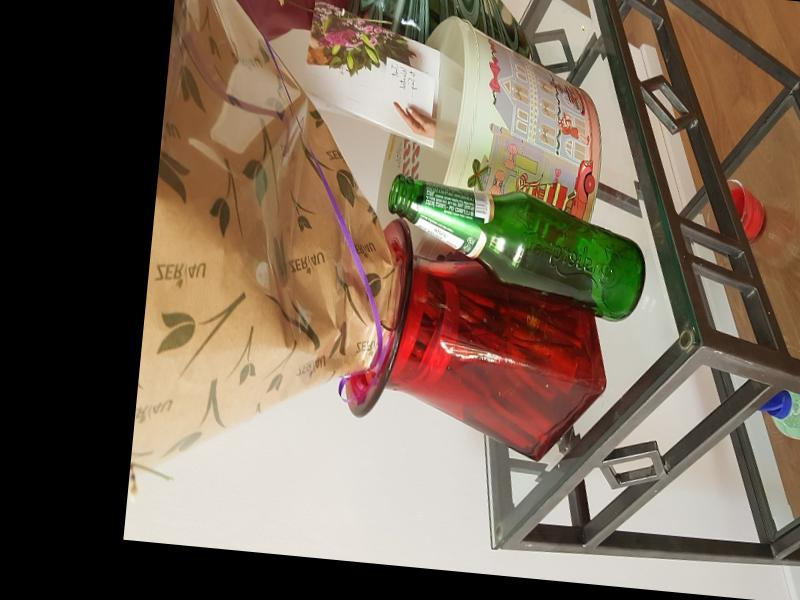Beer: (378, 176, 653, 322)
